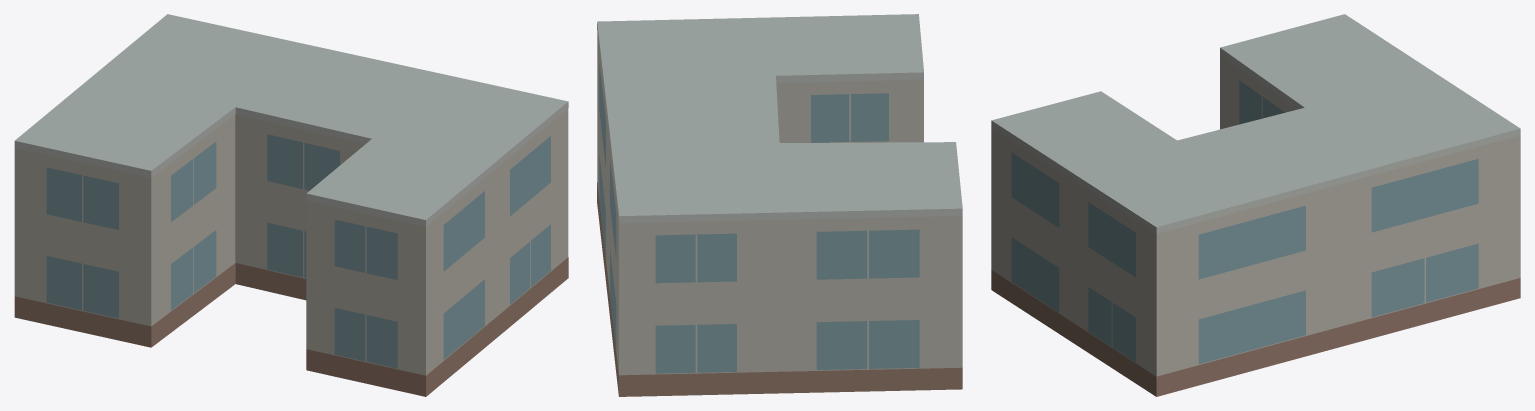
File: survey-upis-32767724.glb
3 renders of one model, left to right at view 1: azimuth 30°, elevation 25°; view 2: azimuth 150°, elevation 25°; view 3: azimuth 270°, elevation 25°, orthographic. The views are drawn at different scales.
Parts seen in each view (by area): view 1: survey-upis-32767724.tmp; view 2: survey-upis-32767724.tmp; view 3: survey-upis-32767724.tmp.
Part boxes in pixels (x1=…): survey-upis-32767724.tmp: x1=14, y1=14, x2=568, y2=396; survey-upis-32767724.tmp: x1=597, y1=14, x2=962, y2=396; survey-upis-32767724.tmp: x1=991, y1=14, x2=1520, y2=396.
Size of the model in its own units: 16.47 by 6.1 by 17.27.
